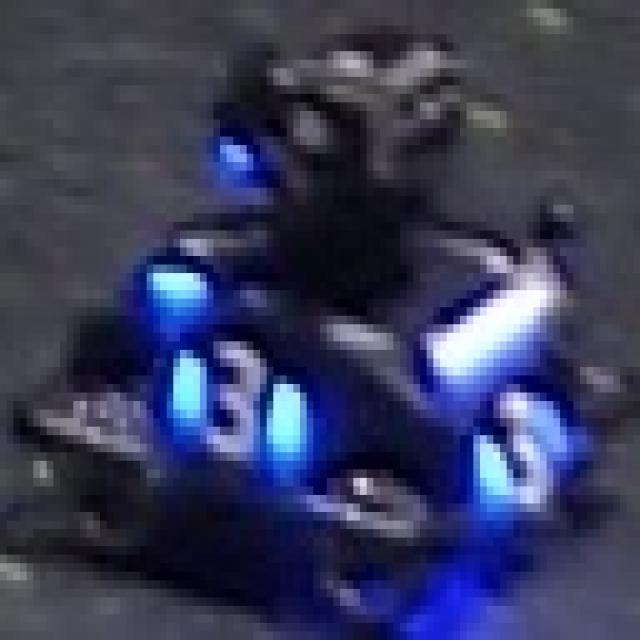B3: (167, 324, 313, 478), (460, 367, 567, 512)
